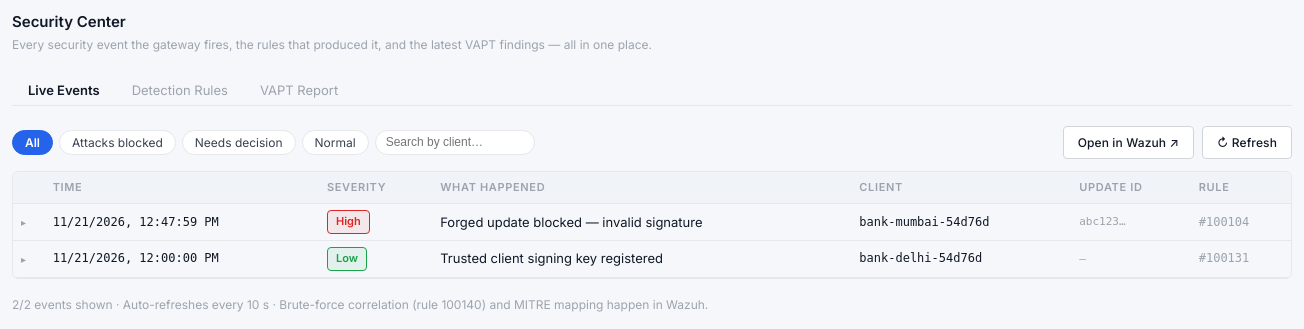
Test: SecurityCenter — tab rendering › VAPT Report tab shows unavailable message when not built
The image size is (1304, 329).
Click the button "VAPT Report" at (299, 89), box [244,74,354,105]
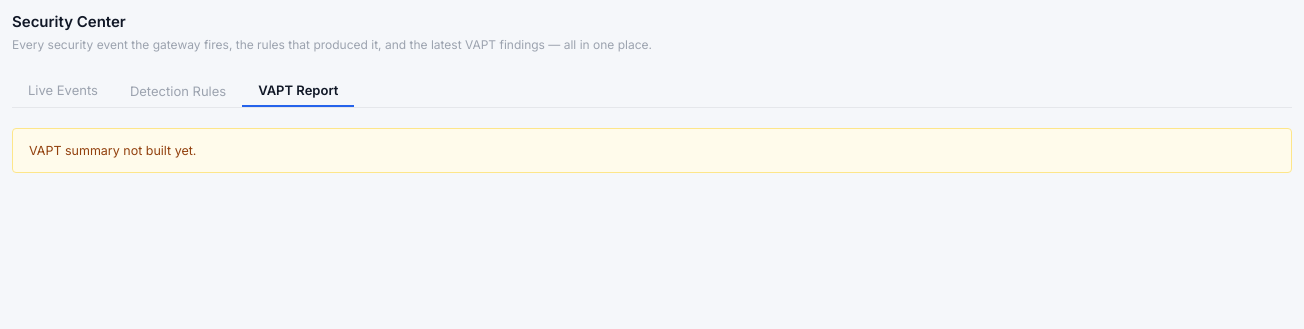
Now the text "VAPT summary not built yet." is shown, box [12,128,1292,173]
